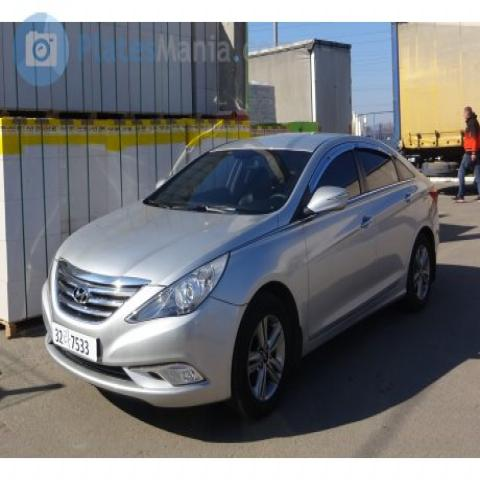LP: (45, 318, 104, 366)
